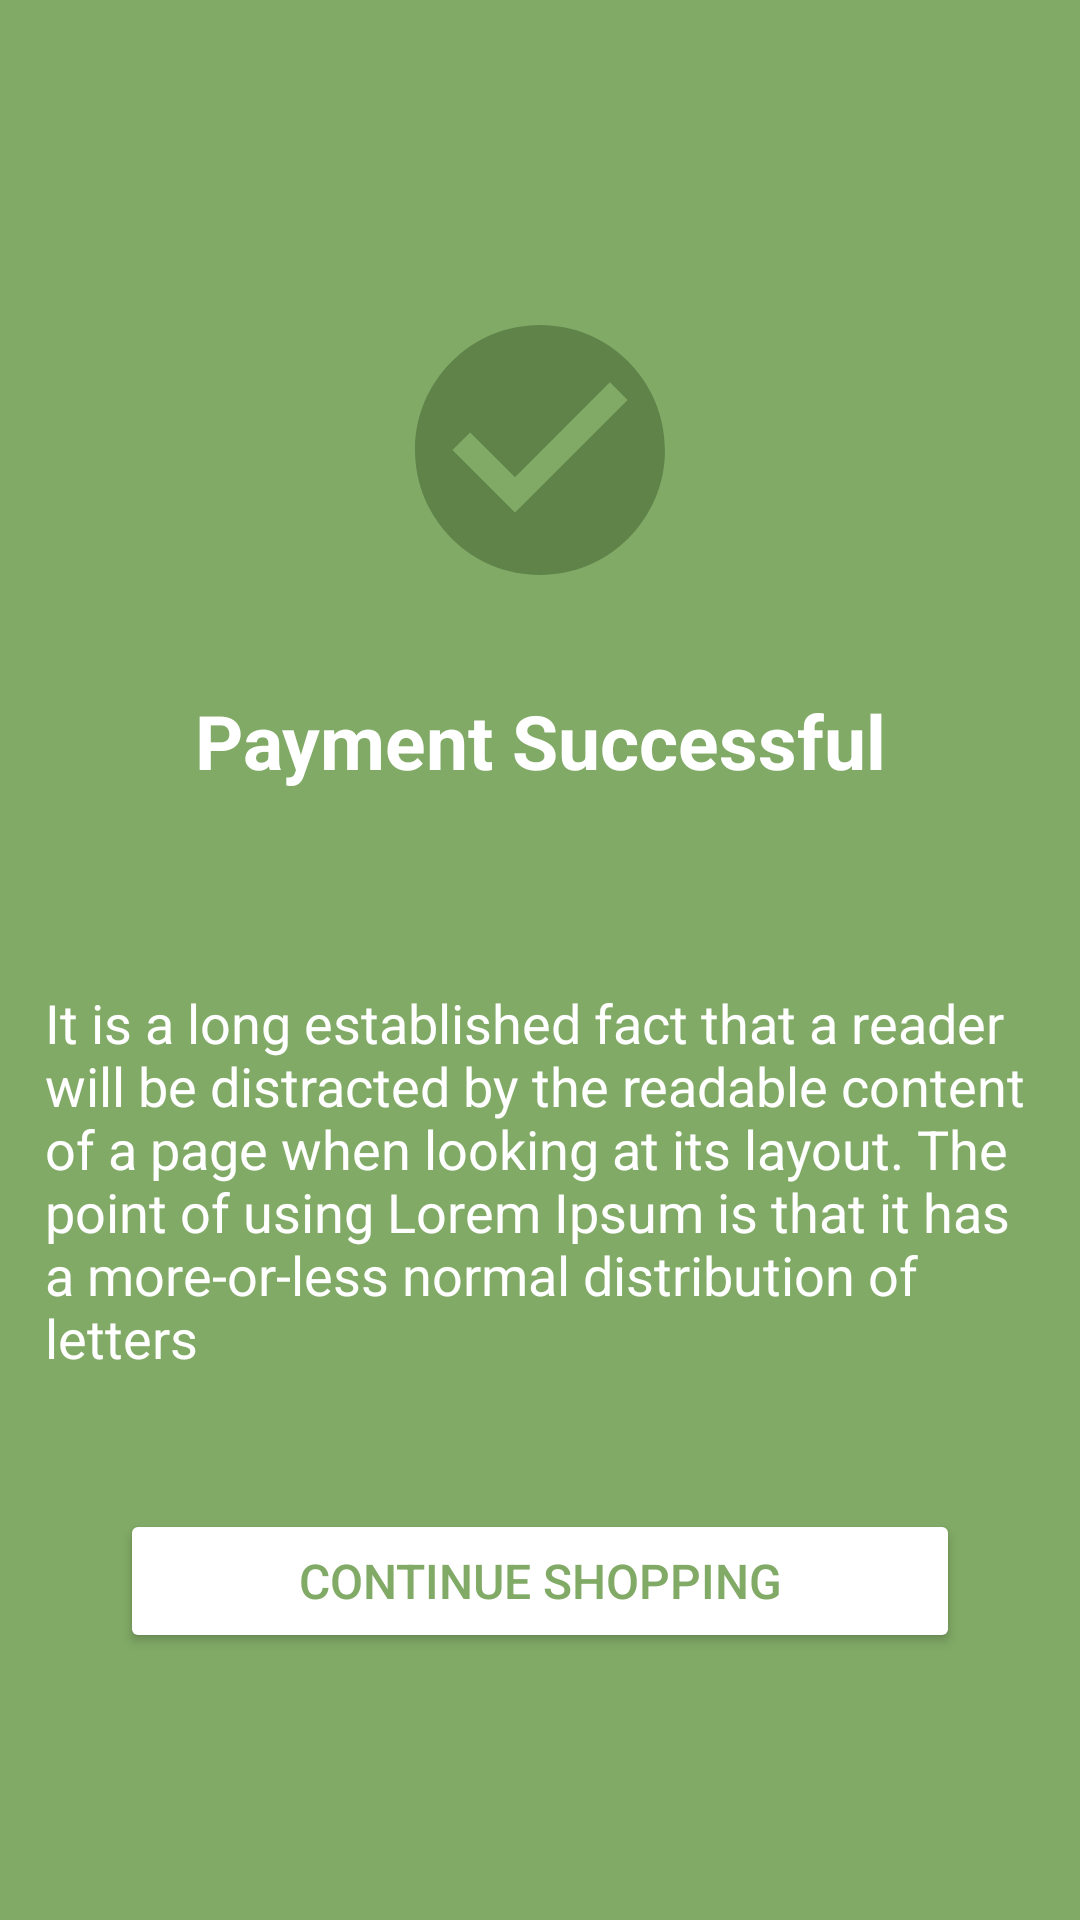

Where to tap for icons on this 1080×1920 app screen, as (x=x, y=y):
check circle: (x=540, y=450)
